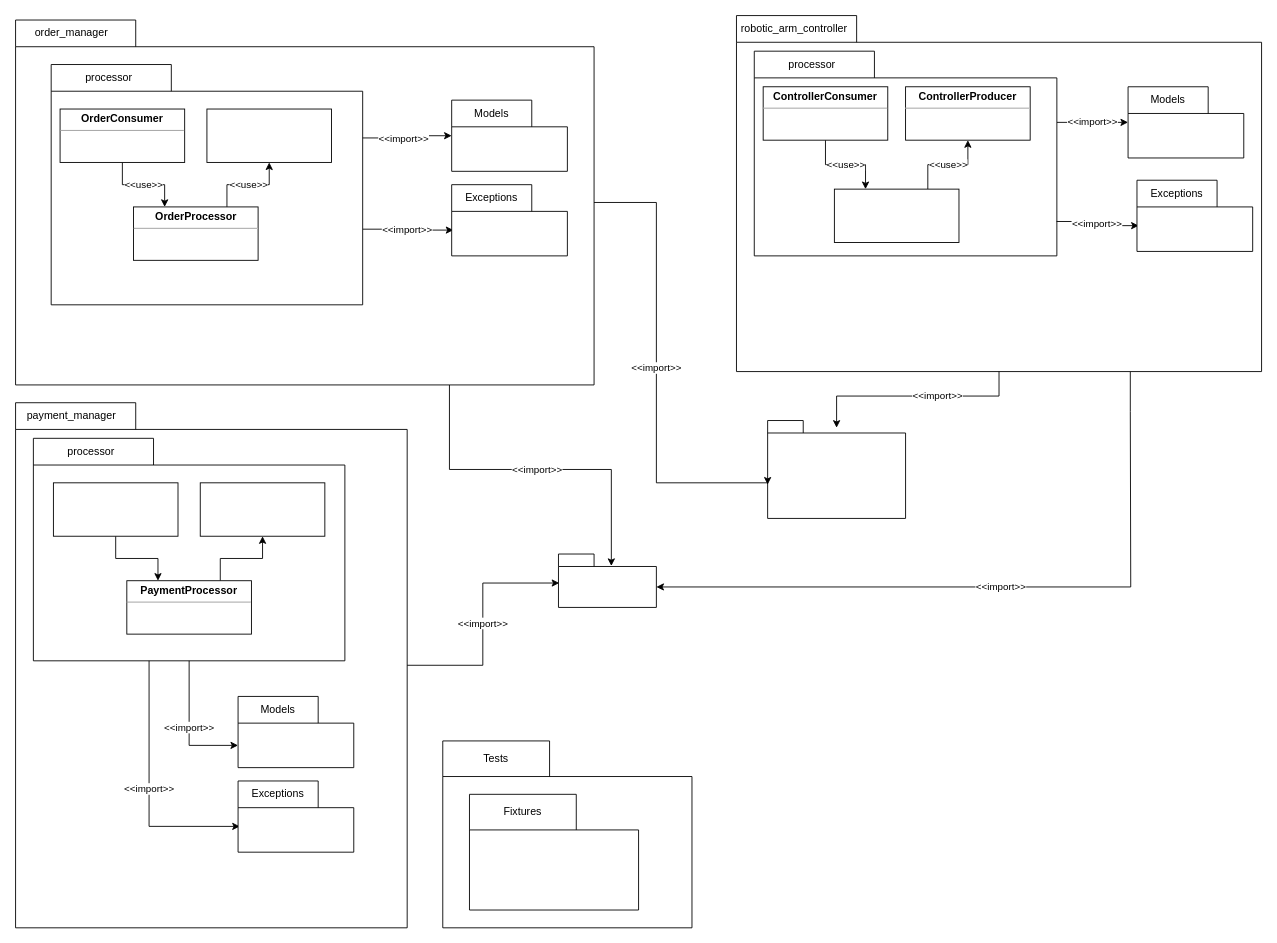
Some shapes in this 1277 by 943 pixel diagram are drawn without their labels. The shapes that lost their labels are listed below. From the top down, each one's box as (x1, y1, x2, y2) in pixels, then its label:
(206, 108, 332, 162): OrderProducer
(833, 188, 959, 243): ControllerProcessor
(767, 420, 906, 518): database_manager
(53, 482, 178, 536): PaymentConsumer
(199, 482, 325, 536): PaymentProducer
(558, 553, 656, 607): config
